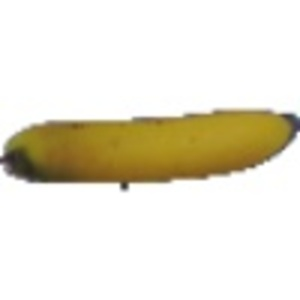banana: (1, 106, 297, 182)
